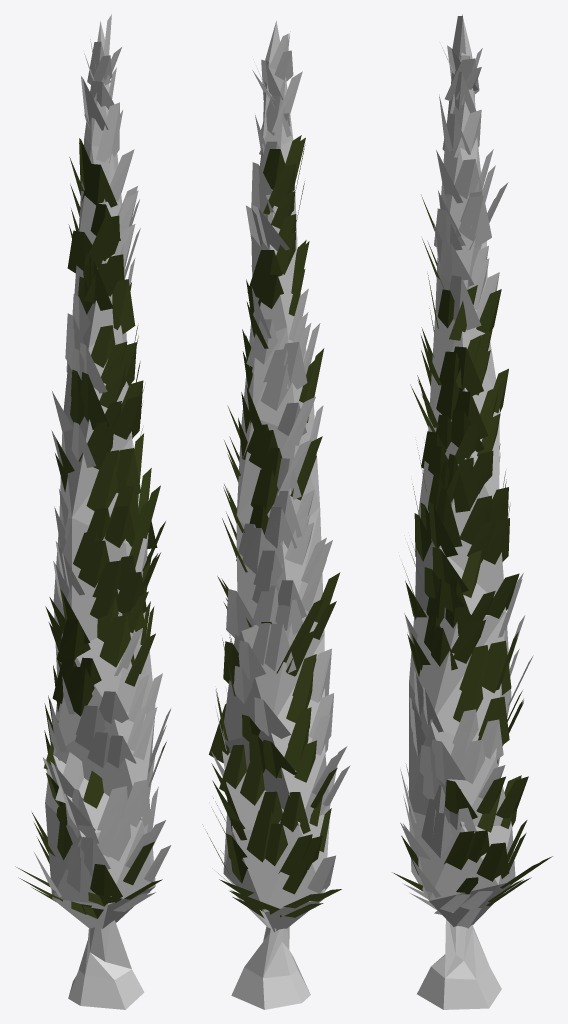
The model's file is tree-cypress-withered-a.gltf.
The picture shows the model from 3 angles, left to right: view 1: azimuth 30°, elevation 25°; view 2: azimuth 150°, elevation 25°; view 3: azimuth 270°, elevation 25°; orthographic projection.
Parts seen in each view (by area): view 1: tree-cypress-withered-a; view 2: tree-cypress-withered-a; view 3: tree-cypress-withered-a.
Part boxes in pixels (x1,y1,x2,y2): tree-cypress-withered-a: (15, 14, 171, 1009); tree-cypress-withered-a: (202, 21, 350, 1009); tree-cypress-withered-a: (392, 14, 552, 1009).
Size of the model in its own units: 0.0137 by 0.0921 by 0.0144.
